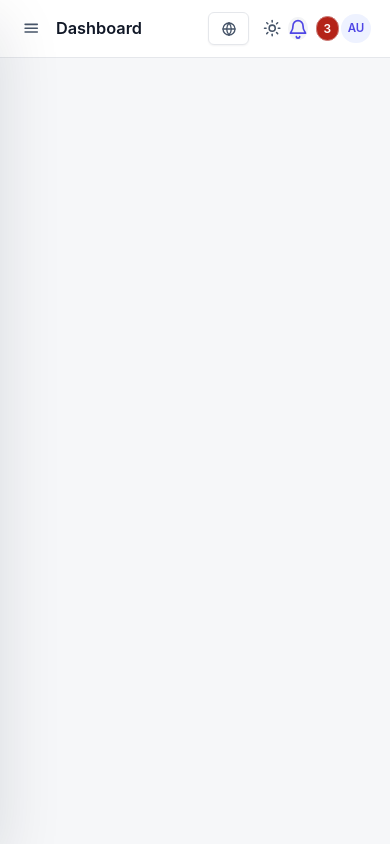
Test: AuthenticatedLayoutComponent › keeps drawer direction state independent of document direction
This screenshot has width=390, height=844.
What coordinates should you click on to do the following:
click the button with class "mobile-menu"
I would click on:
 (32, 28)
Its box is [14,11,49,46].
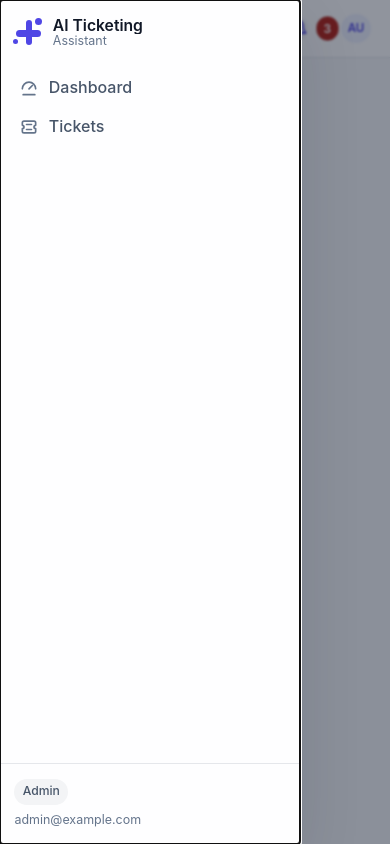
Result: the button with class "mobile-scrim" is shown
What coordinates should you click on to do the following:
click the button with class "mobile-scrim"
I would click on:
 (367, 422)
Its box is [0,0,389,843].
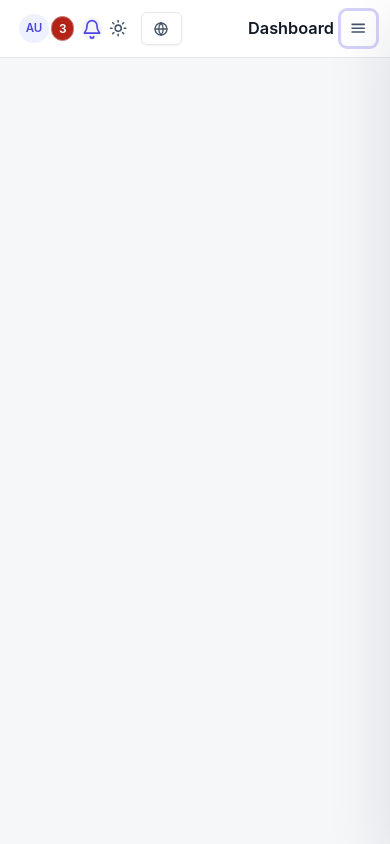
What coordinates should you click on to do the following:
click the button with class "mobile-menu"
I would click on:
 (358, 28)
Its box is [341,11,376,46].
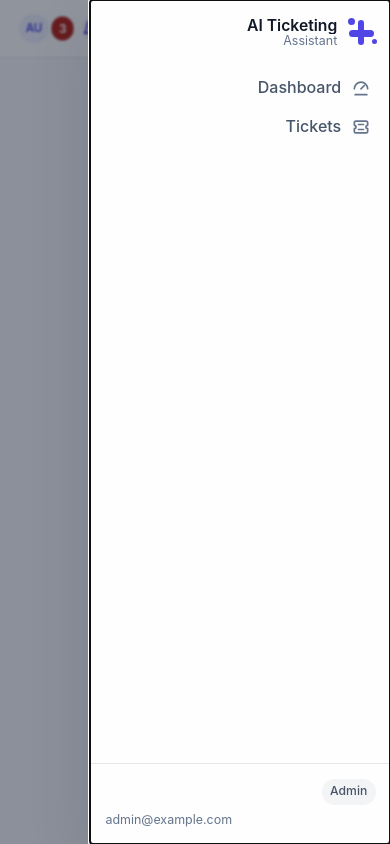
Result: the button with class "mobile-scrim" is shown
